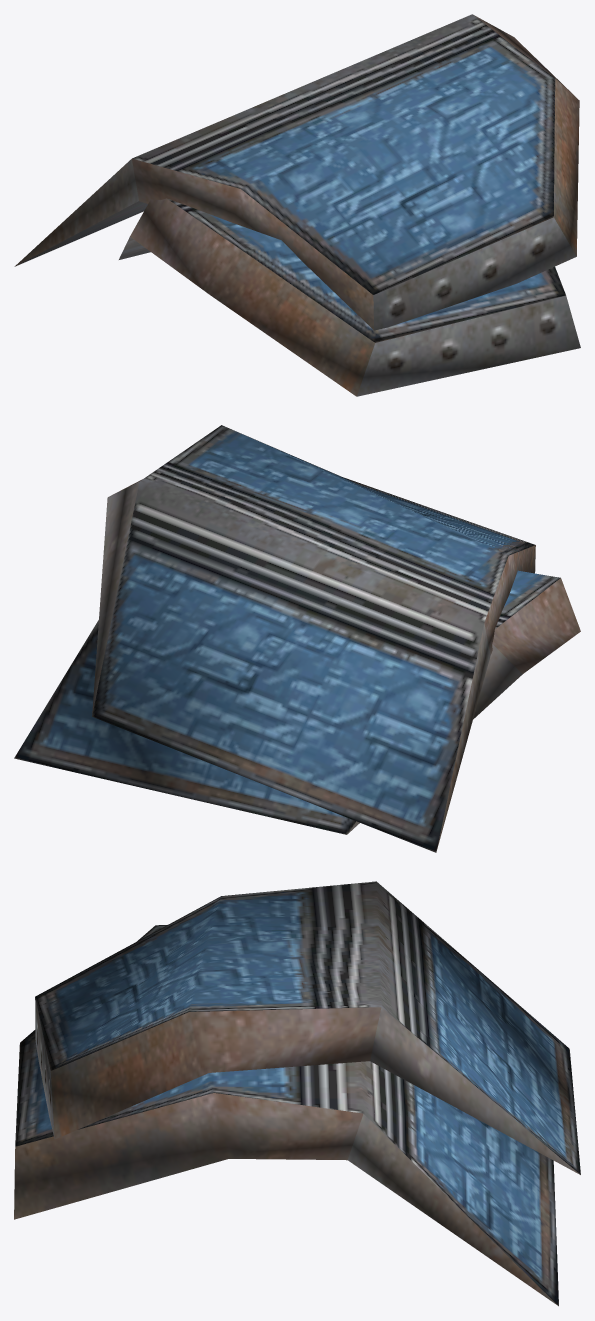
The model's file is ShoulderPads4__LED.glb.
3 renders of one model, top to bottom at view 1: azimuth 30°, elevation 25°; view 2: azimuth 150°, elevation 25°; view 3: azimuth 270°, elevation 25°, orthographic. The views are drawn at different scales.
Visible parts, largest first — view 1: ShoulderPads4; view 2: ShoulderPads4; view 3: ShoulderPads4.
Part boxes in pixels (left/top/right/bottom): ShoulderPads4: left=14, top=14, right=580, bottom=396; ShoulderPads4: left=14, top=425, right=580, bottom=852; ShoulderPads4: left=14, top=881, right=580, bottom=1306.
Bounding box in the file's own units: 10.24 × 5.34 × 10.11.
1 material, 1 textured.
